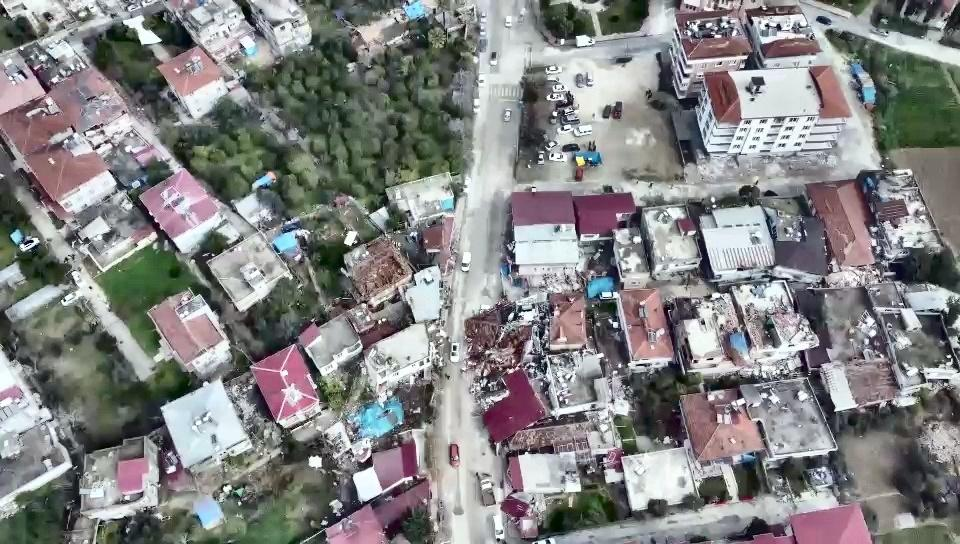kapali: (433, 288, 504, 470)
